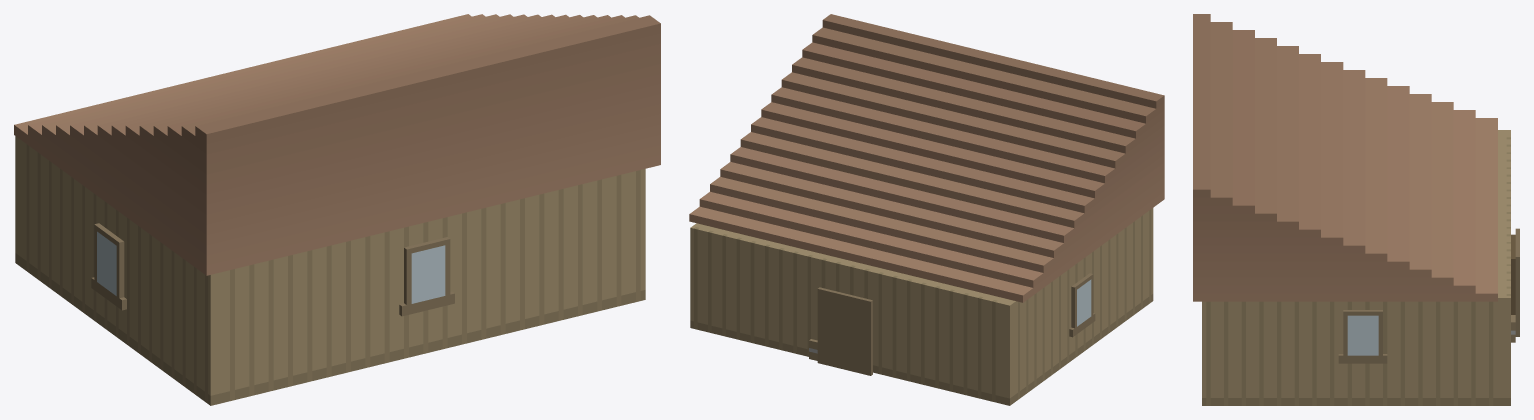
Rendered from taller_arquero_01.glb.
3 views of the same model, side by side, from view 1: azimuth 30°, elevation 25°; view 2: azimuth 150°, elevation 25°; view 3: azimuth 270°, elevation 25° (orthographic). The views are drawn at different scales.
Parts seen in each view (by area): view 1: taller_arquero_01; view 2: taller_arquero_01; view 3: taller_arquero_01.
Boxes of the visible parts, x1,y1,x2,y2 form: taller_arquero_01: (14,14,660,405); taller_arquero_01: (689,14,1164,405); taller_arquero_01: (1193,14,1519,405).
Size of the model in its own units: 9.4 by 5.5 by 7.4.
